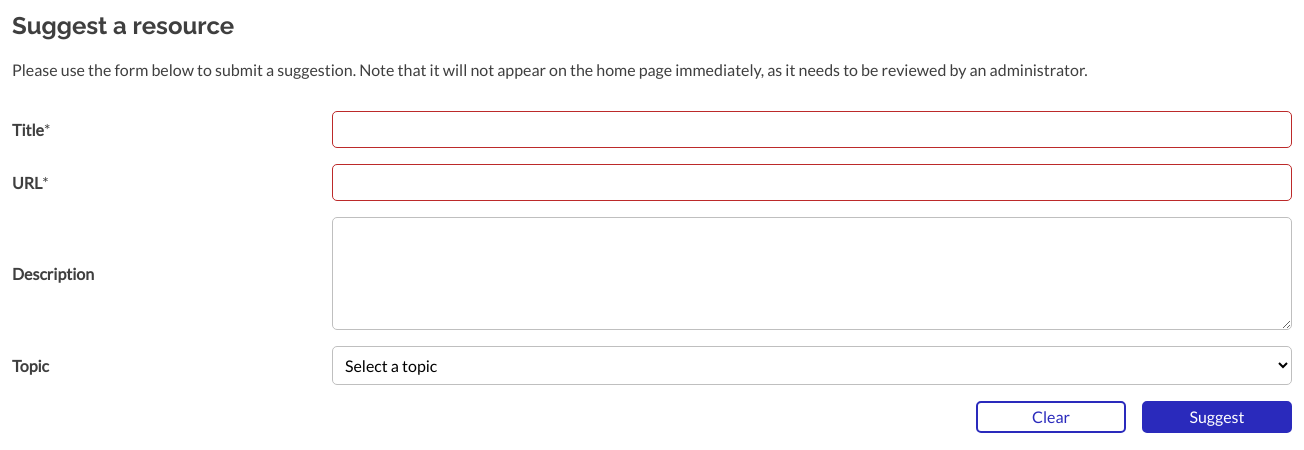
Suggest › allows the user to reset the form
The image size is (1304, 450).
Type "Title" into the field labelled "Title*" at coordinates (812, 129), box [332,111,1292,148]
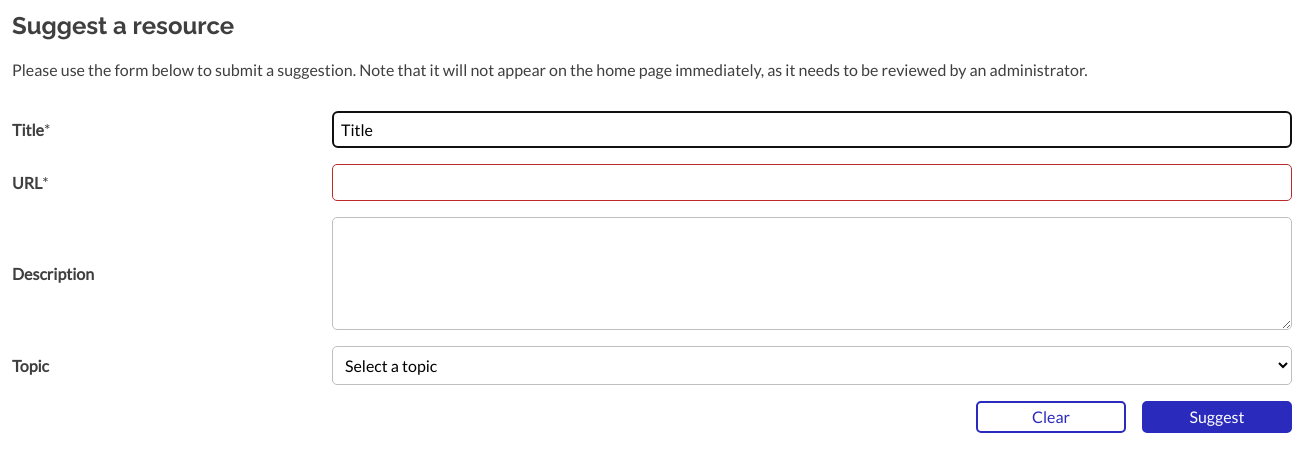
Select "Some Topic" in the dropdown labelled "Topic" at coordinates (812, 365), box [332,346,1292,385]
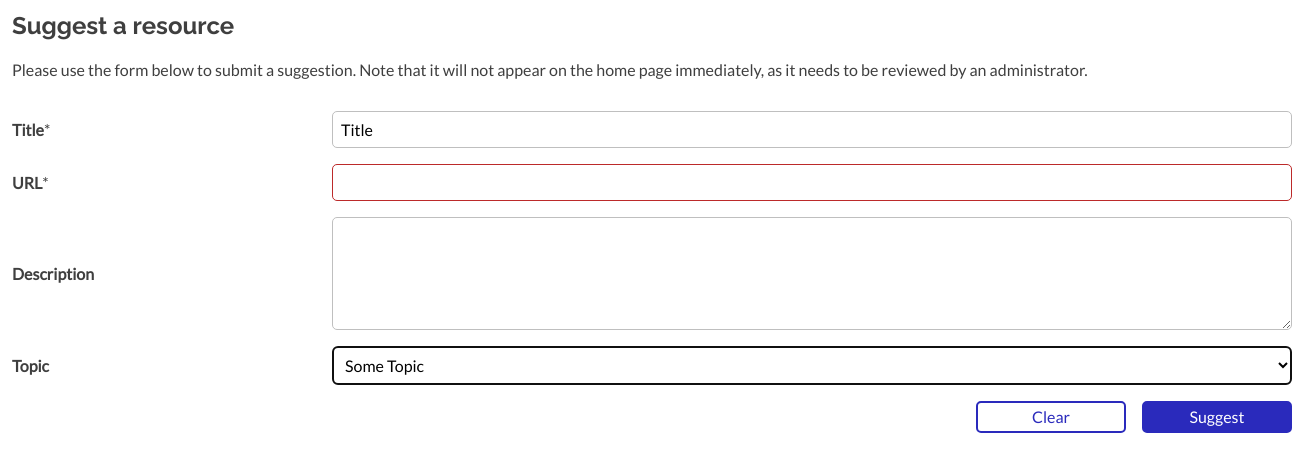
Click the button "Clear" at coordinates (1051, 417), box [976,401,1126,433]
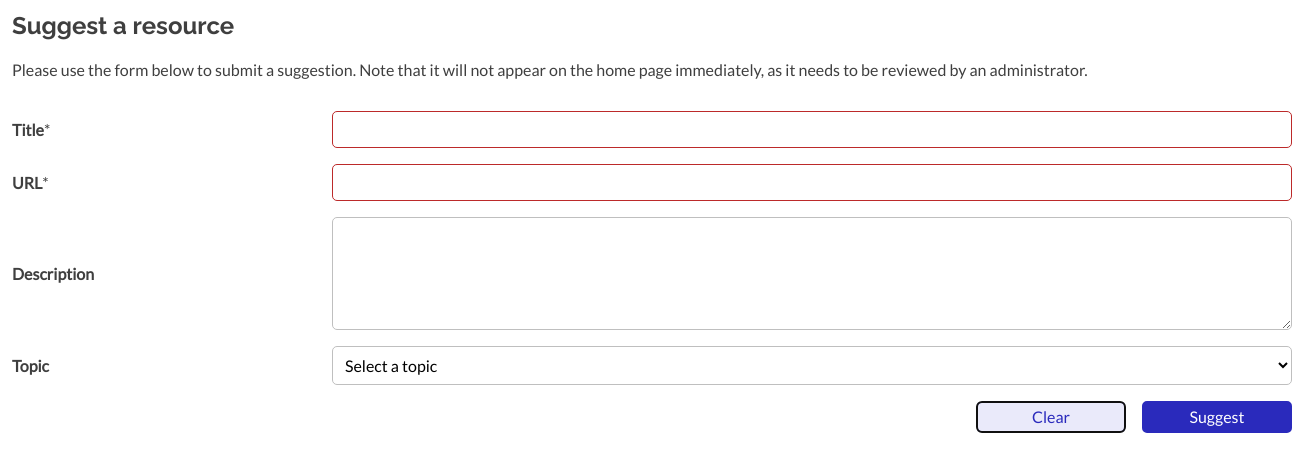
Expected: the field labelled "Title*" is empty, [332,111,1292,148]
